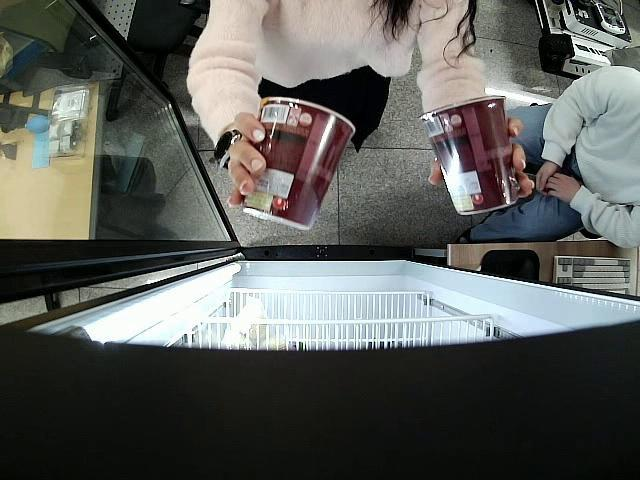06_nuguri_S: (242, 96, 355, 230), (420, 94, 518, 215)
